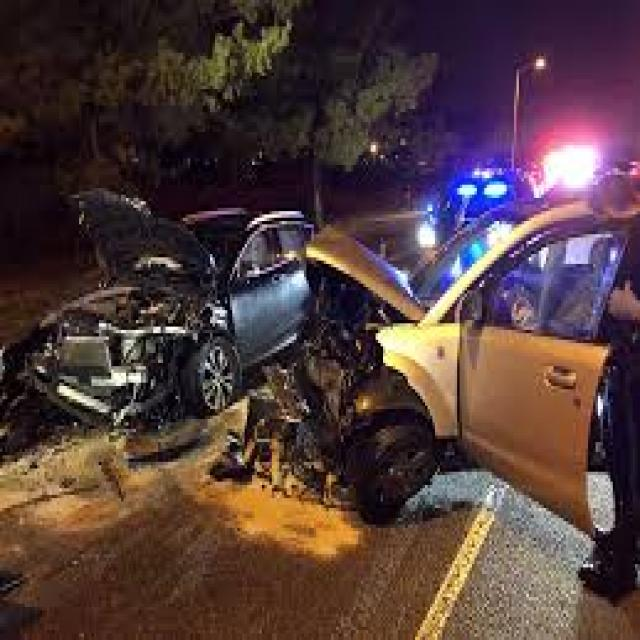accident: (38, 170, 616, 544)
